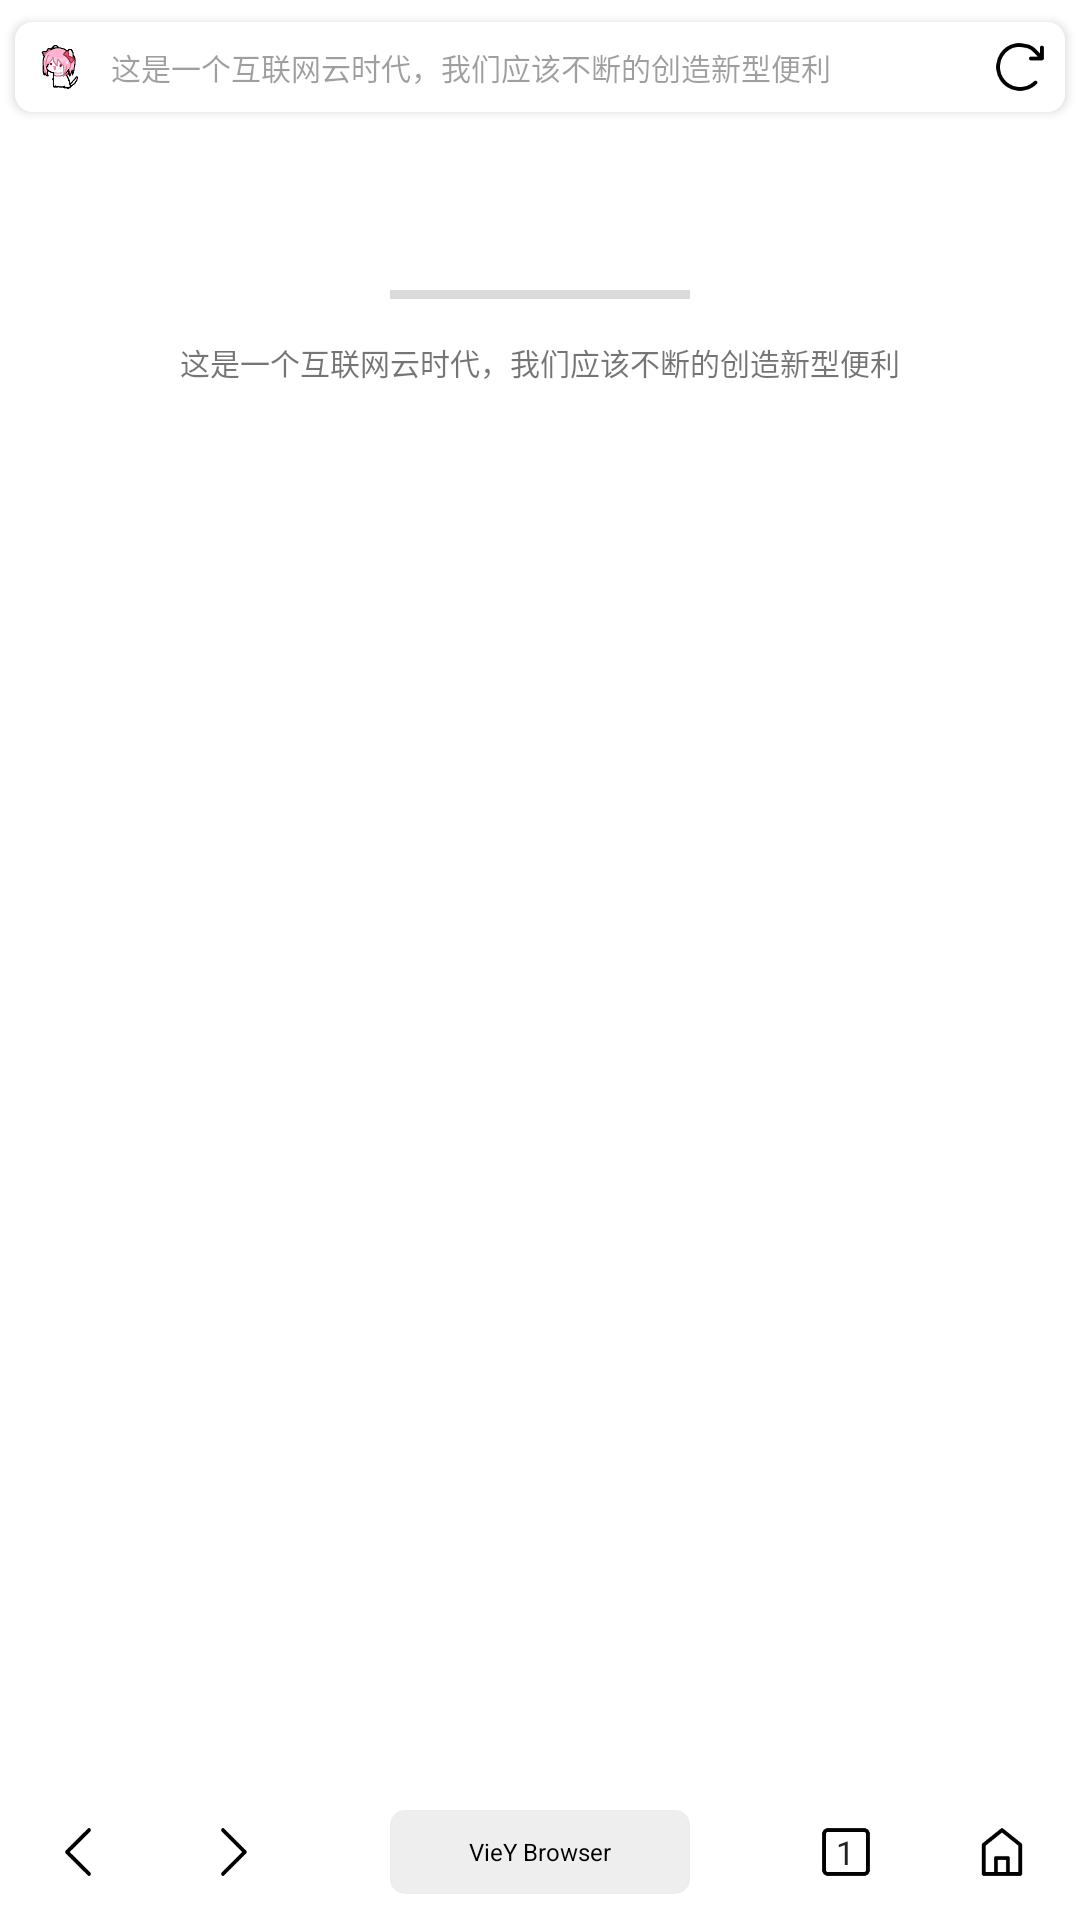

Point at icon controls on the screen. Image size 1080×1920, points as (x,y).
arrow back: (78,1852)
arrow forward: (234,1852)
home: (1002,1852)
refresh: (1020,67)
window: (846,1852)
